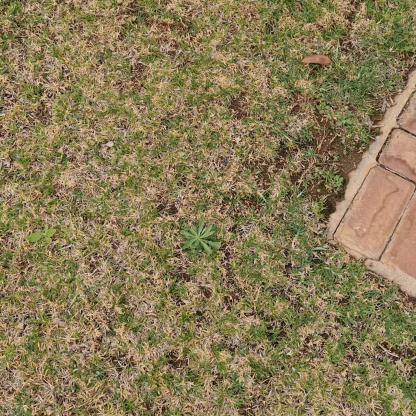Weeds: (180, 219, 222, 257), (27, 224, 56, 245), (337, 112, 353, 126), (316, 103, 330, 115), (334, 175, 344, 189)
